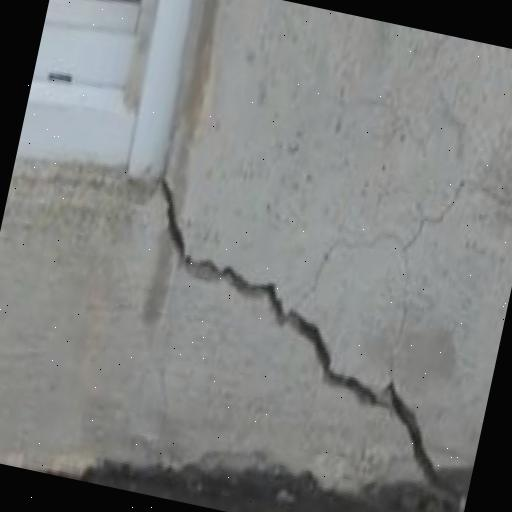spalling: (152, 170, 460, 510)
